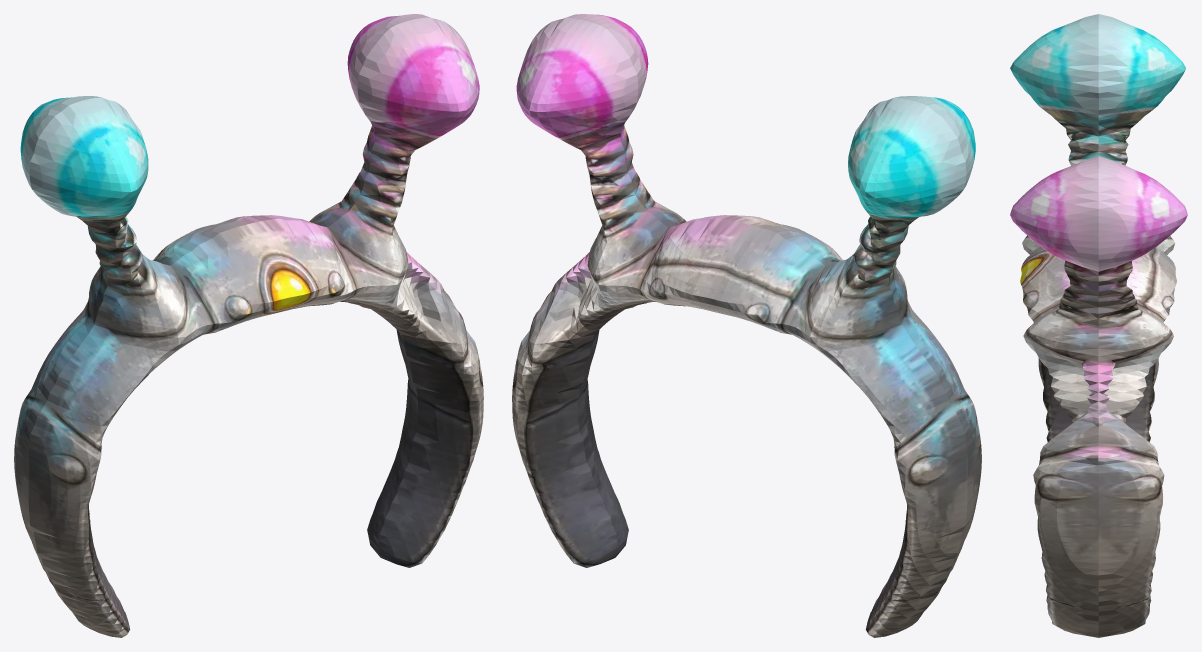
Rendered from robot_antennae.glb.
3 renders of one model, left to right at view 1: azimuth 30°, elevation 25°; view 2: azimuth 150°, elevation 25°; view 3: azimuth 270°, elevation 25°, orthographic. The views are drawn at different scales.
Visible parts, largest first — view 1: geometry_0; view 2: geometry_0; view 3: geometry_0.
Part boxes in pixels (<box>): geometry_0: <box>14,14,483,637</box>; geometry_0: <box>512,14,981,637</box>; geometry_0: <box>1010,14,1187,637</box>.
Bounding box in the file's own units: 0.8371 × 0.9801 × 0.3301.
1 material, 1 textured.
